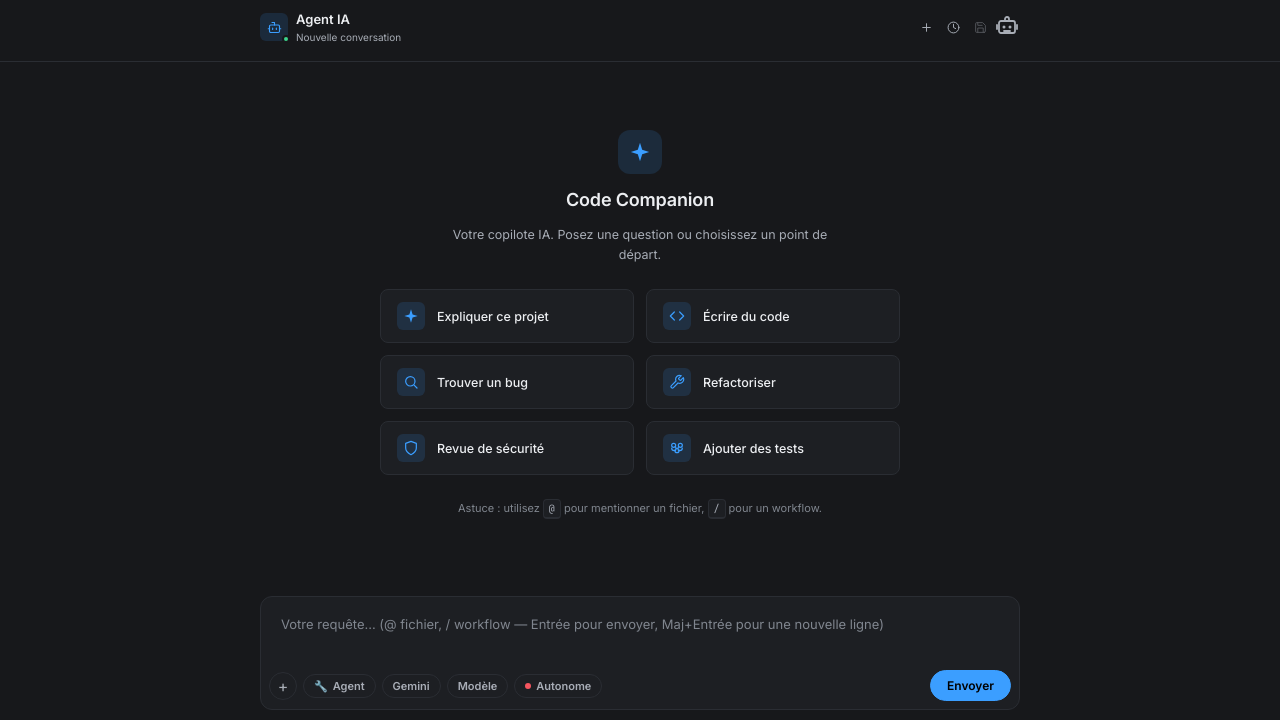
Scenario: COD-70 composer — suggestions @fichier au clavier › @ ouvre une listbox ARIA, ArrowDown+Enter selectionne, Escape ferme
Replace the text in the dropdown with "@": (640, 634) [269,605,1011,664]
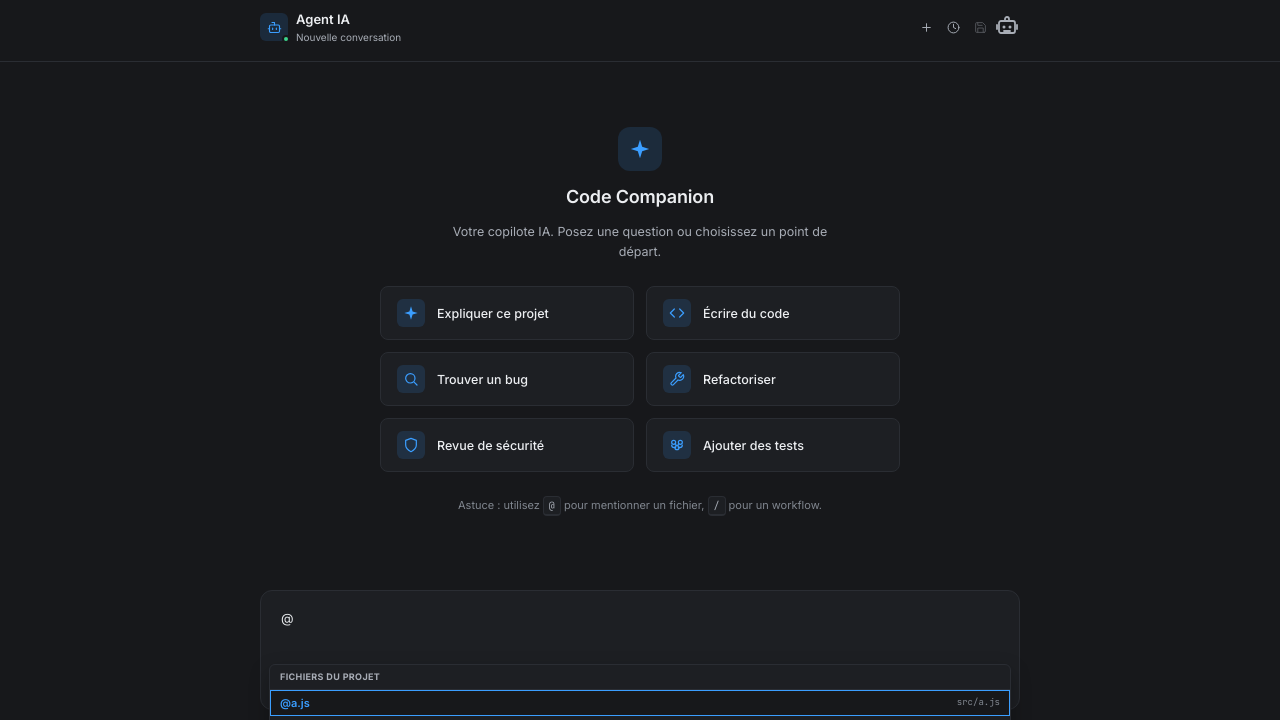
Now the number of options is 2
Press ArrowDown in the dropdown, box [269,599,1011,658]
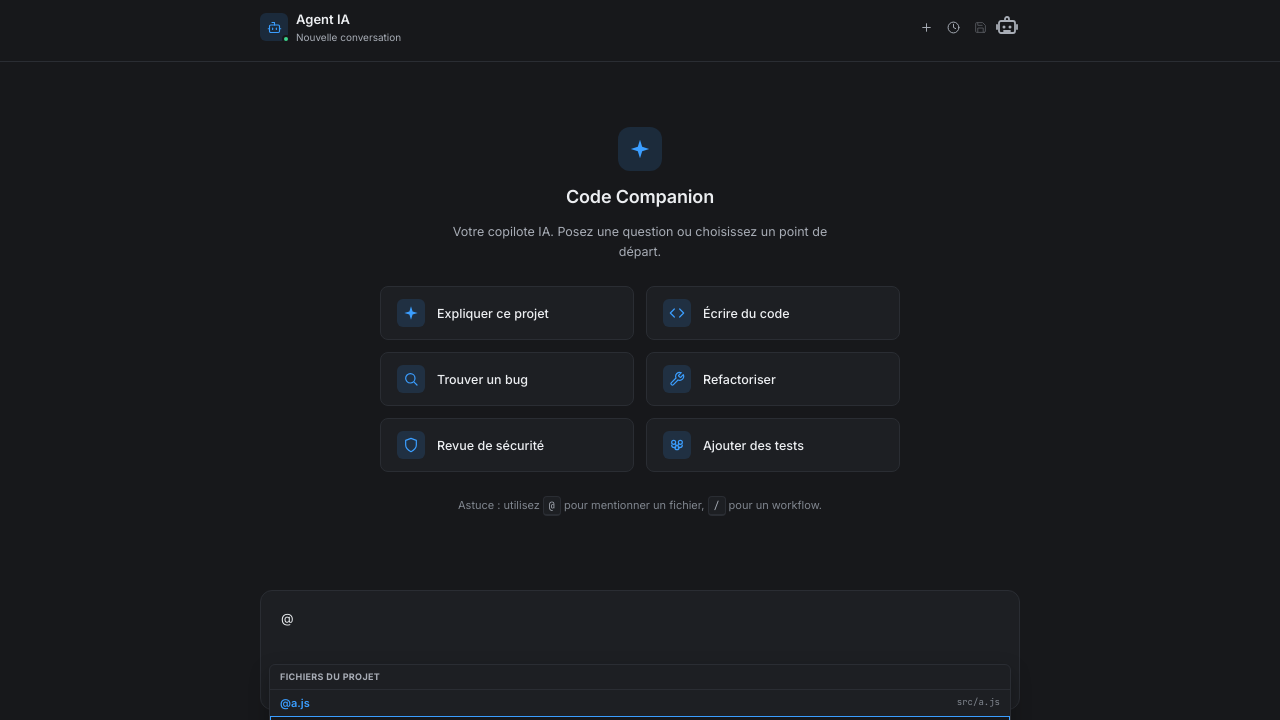
Press Enter in the dropdown, box [269,599,1011,658]
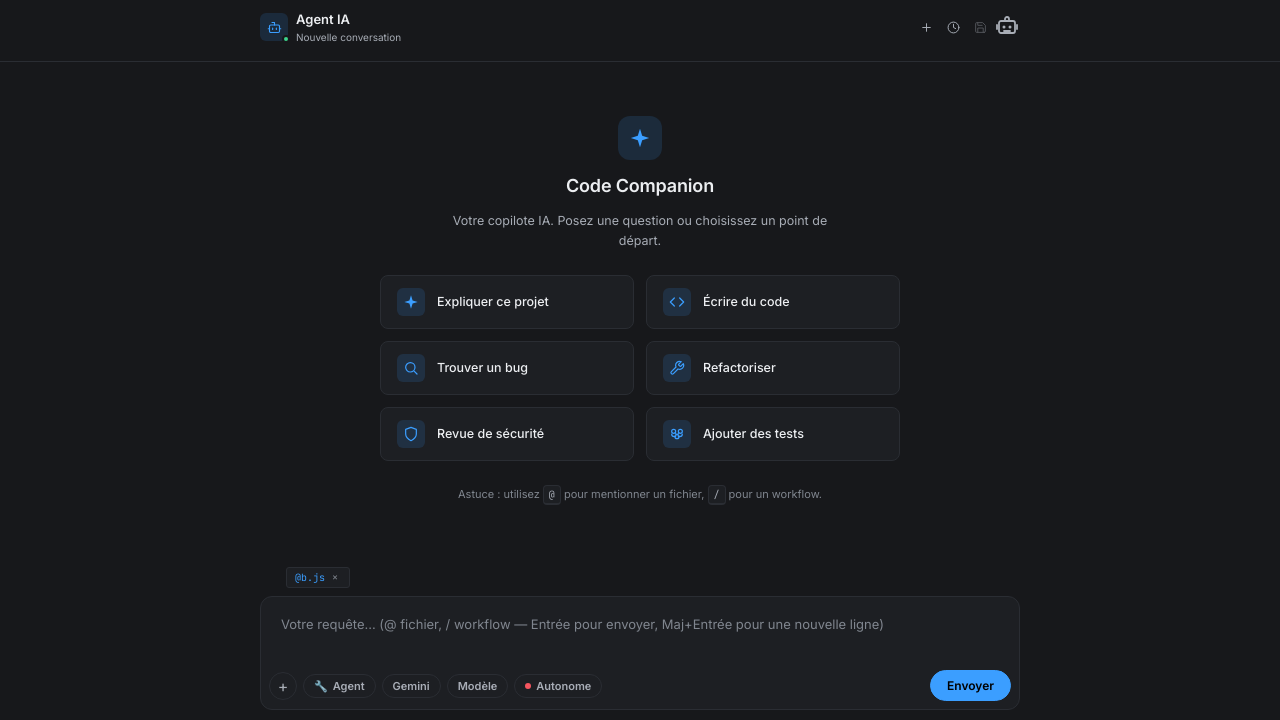
Now the button named "Retirer b.js du contexte" is shown, box [329,572,341,584]
// Retour a la saisie : Escape ferme sans selectionner.
Replace the text in the dropdown with "@a": (640, 634) [269,605,1011,664]
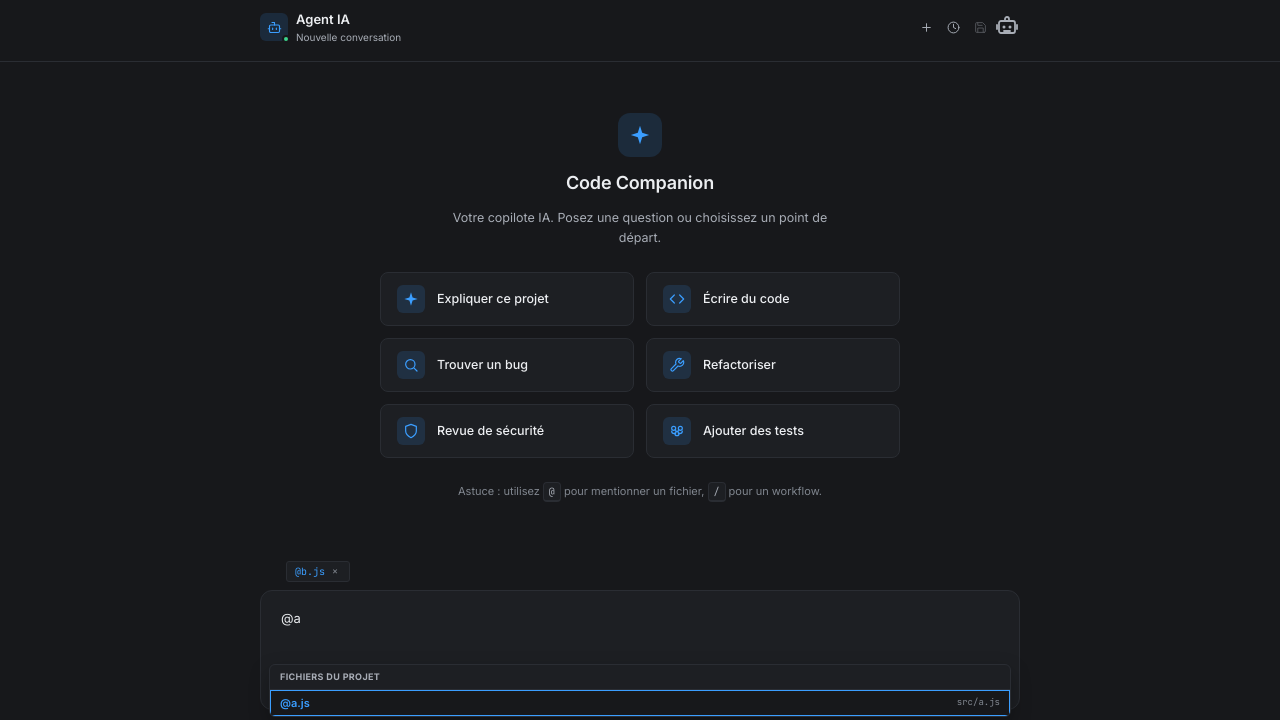
Now the list "@a.js src/a.js" is shown, box [270,690,1010,716]
Press Escape in the dropdown, box [269,599,1011,658]
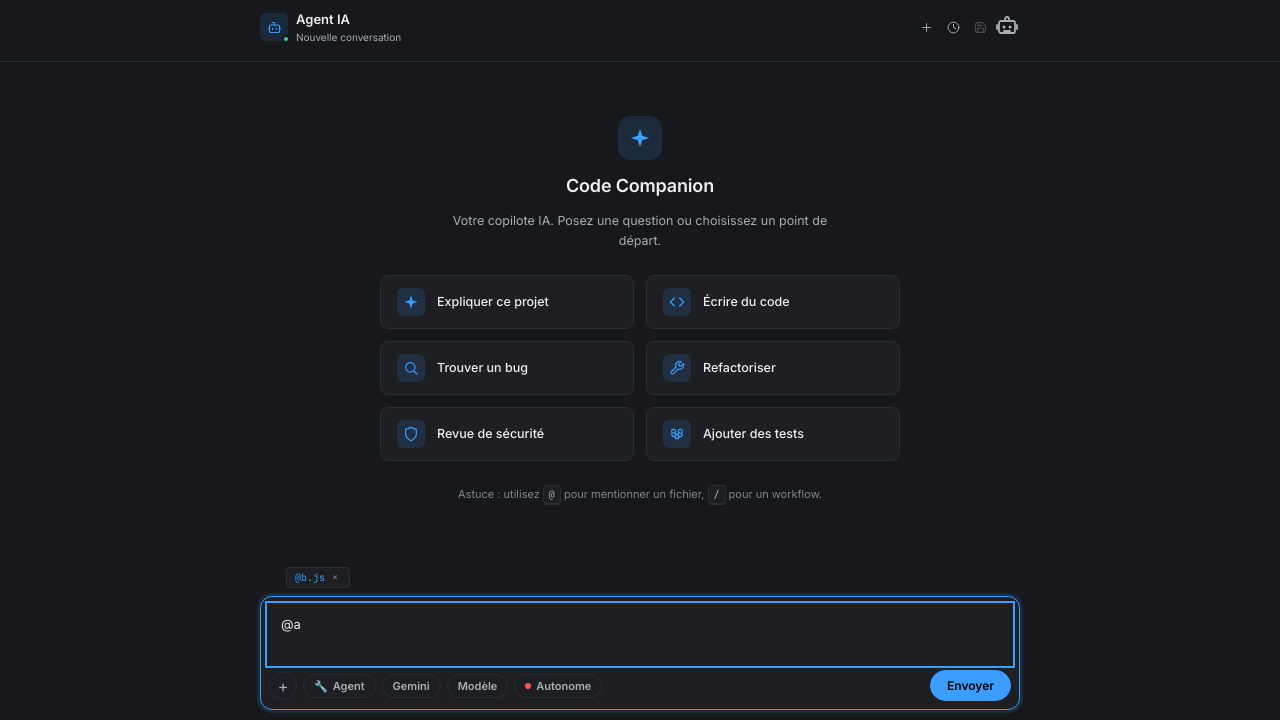
Now the list "@a.js src/a.js" is gone
